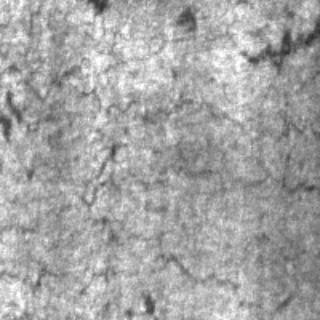crazing: (0, 52, 312, 200), (3, 213, 300, 315)
